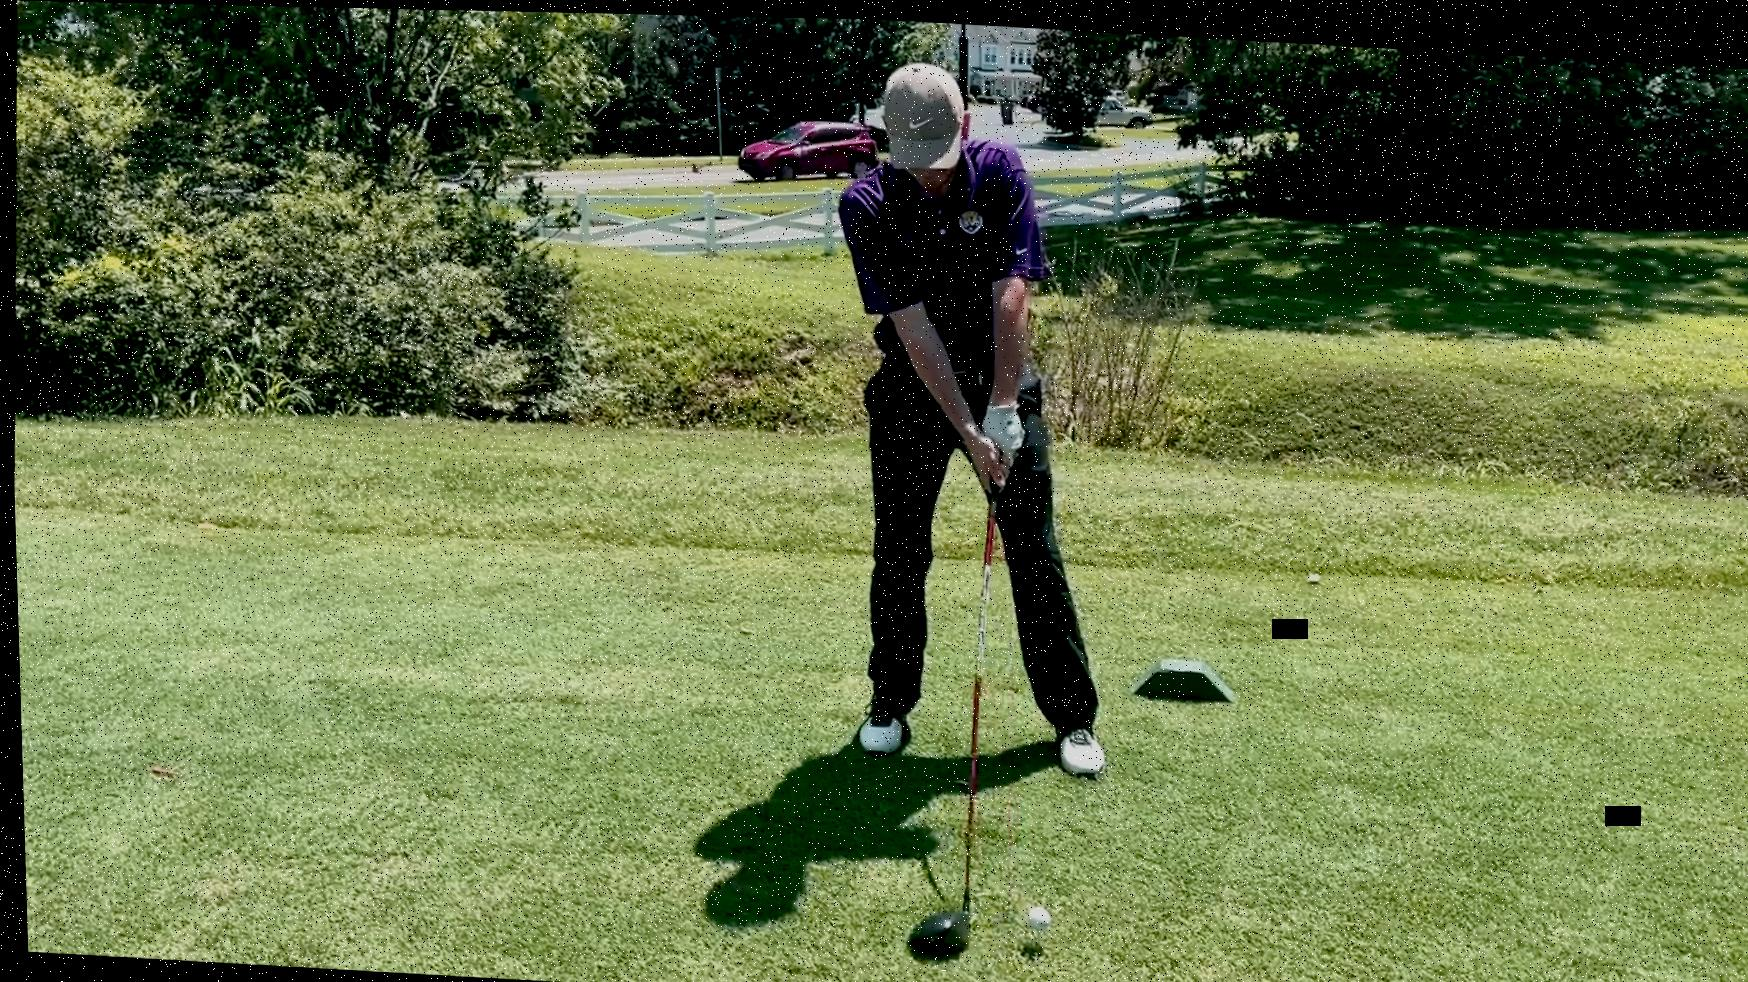ClubHead: (902, 879, 970, 950)
GolfBall: (1019, 899, 1046, 928)
